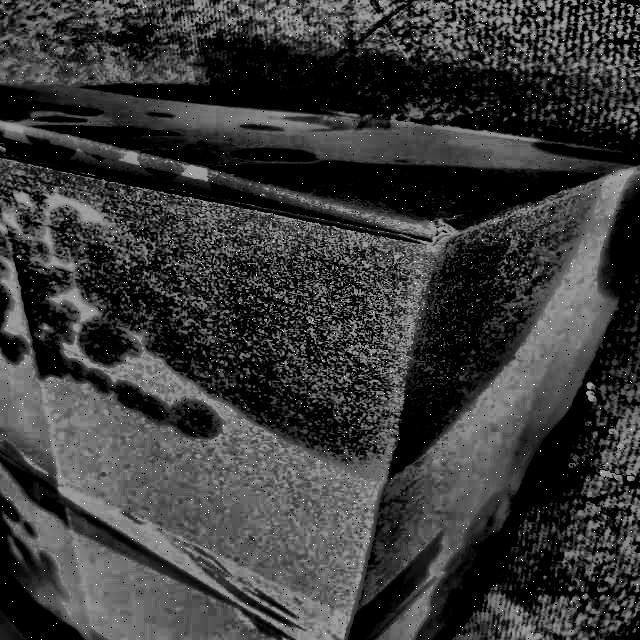box: (1, 73, 640, 640)
wet: (0, 103, 640, 476)
